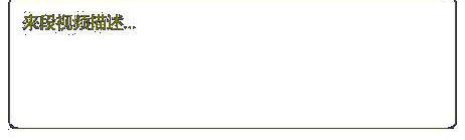EditText: (1, 1, 464, 139)
